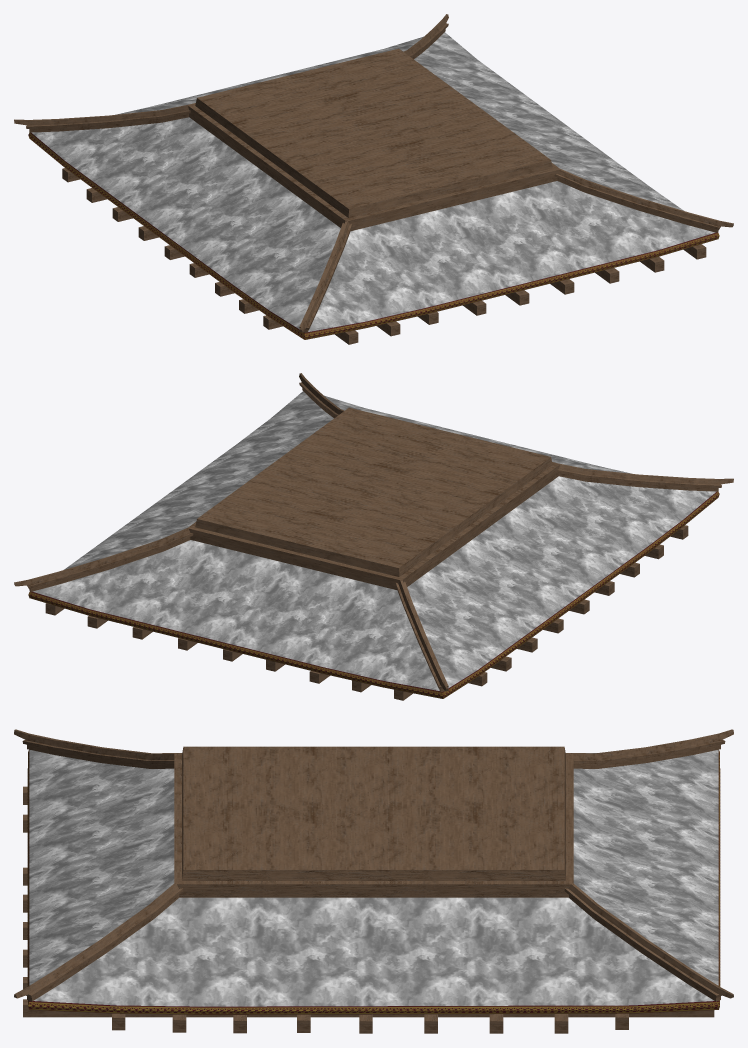
The model's file is SM_roof_temple_04.fbx.
3 views of the same model, one above another, from view 1: azimuth 30°, elevation 25°; view 2: azimuth 150°, elevation 25°; view 3: azimuth 270°, elevation 25° (orthographic). The views are drawn at different scales.
Parts seen in each view (by area): view 1: SM_roof_temple_04; view 2: SM_roof_temple_04; view 3: SM_roof_temple_04.
Boxes of the visible parts, x1=… form: SM_roof_temple_04: x1=14, y1=14, x2=733, y2=344; SM_roof_temple_04: x1=14, y1=373, x2=733, y2=700; SM_roof_temple_04: x1=14, y1=729, x2=733, y2=1033.
Size of the model in its own units: 2230 by 2555 by 372.
4 materials, 4 textured.
